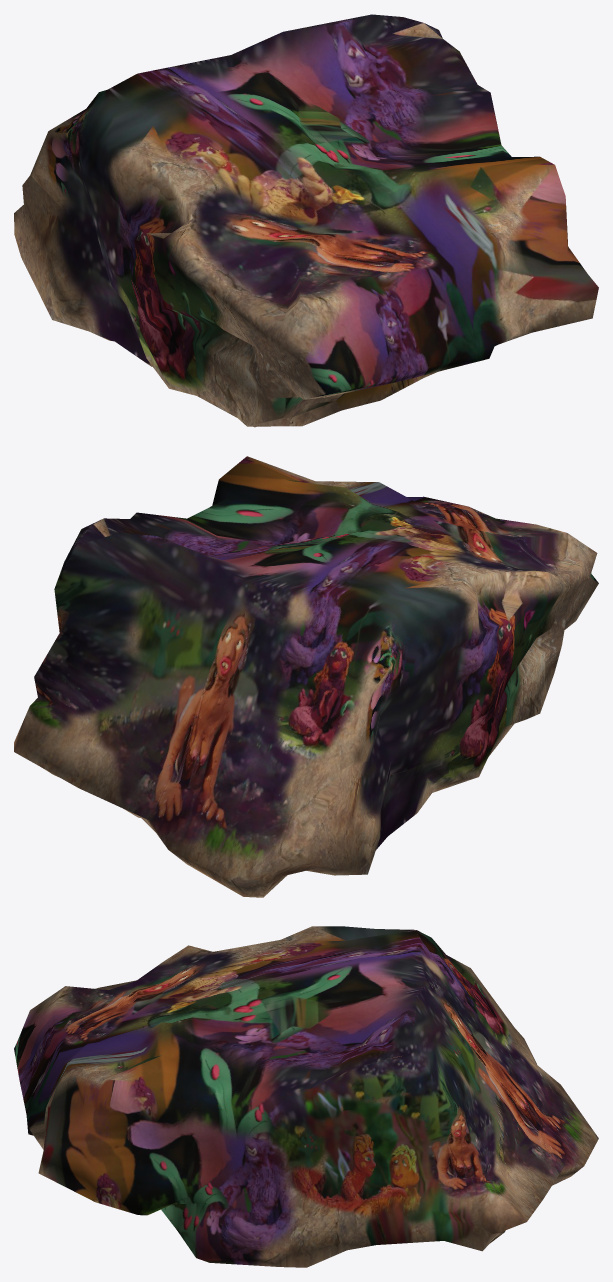
File: pien.glb
3 views of the same model, one above another, from view 1: azimuth 30°, elevation 25°; view 2: azimuth 150°, elevation 25°; view 3: azimuth 270°, elevation 25° (orthographic). The views are drawn at different scales.
Parts seen in each view (by area): view 1: Rock_7; view 2: Rock_7; view 3: Rock_7.
Boxes of the visible parts, <box> form: Rock_7: <box>14,14,598,427</box>; Rock_7: <box>14,456,598,897</box>; Rock_7: <box>14,926,598,1267</box>.
Bounding box in the file's own units: 26.96 × 17.94 × 40.06.
Materials: 1 (1 with a texture image).
